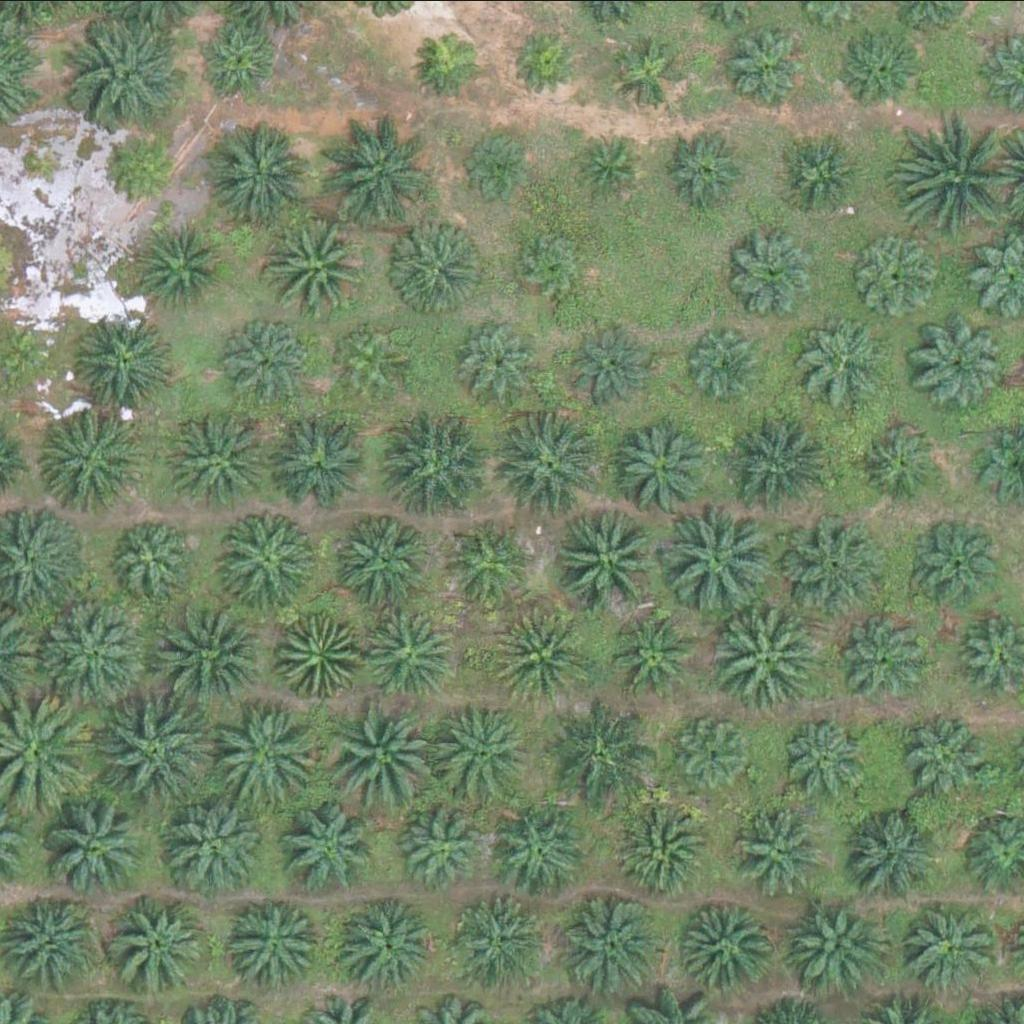Kelapa_Sawit: (905, 117, 1018, 230), (730, 412, 843, 525), (667, 503, 780, 616), (539, 692, 652, 805), (214, 692, 327, 805), (98, 693, 211, 806), (72, 14, 185, 127), (35, 593, 149, 705), (552, 498, 666, 610), (711, 604, 824, 716), (428, 694, 541, 806), (318, 699, 431, 811), (150, 601, 263, 713), (381, 412, 494, 524), (495, 411, 608, 523), (321, 110, 434, 222), (617, 416, 718, 516), (784, 519, 885, 619), (613, 802, 714, 902), (842, 800, 943, 900), (561, 892, 662, 992), (337, 893, 438, 993), (108, 891, 209, 991), (45, 795, 146, 895), (281, 800, 382, 900), (493, 797, 594, 897), (492, 607, 593, 707), (336, 508, 437, 608), (212, 509, 313, 609), (176, 407, 277, 507), (267, 409, 368, 509), (74, 316, 175, 416), (267, 217, 368, 317), (206, 120, 307, 220), (680, 895, 780, 995), (785, 894, 885, 994), (448, 885, 548, 985), (224, 890, 324, 990), (163, 796, 263, 896), (38, 410, 138, 510), (386, 216, 486, 316), (721, 22, 810, 110), (665, 124, 753, 212), (781, 136, 869, 224), (924, 320, 1012, 408), (670, 706, 758, 794), (777, 717, 865, 805), (905, 713, 993, 801), (910, 520, 998, 608), (856, 419, 944, 507), (857, 230, 945, 318), (738, 804, 826, 892), (198, 15, 286, 103), (362, 608, 450, 696), (613, 612, 701, 700), (437, 514, 525, 602), (570, 321, 658, 409), (452, 314, 540, 402), (836, 24, 924, 111), (838, 617, 926, 704), (728, 229, 816, 316), (801, 318, 889, 405), (904, 900, 992, 987), (395, 803, 483, 890), (270, 611, 358, 698), (112, 510, 200, 597), (219, 317, 307, 404), (139, 223, 227, 310), (100, 131, 176, 206), (691, 326, 767, 401), (462, 128, 538, 203), (574, 130, 650, 205), (412, 23, 487, 98), (333, 322, 408, 397), (612, 38, 687, 113), (517, 224, 592, 299), (508, 23, 583, 98)
